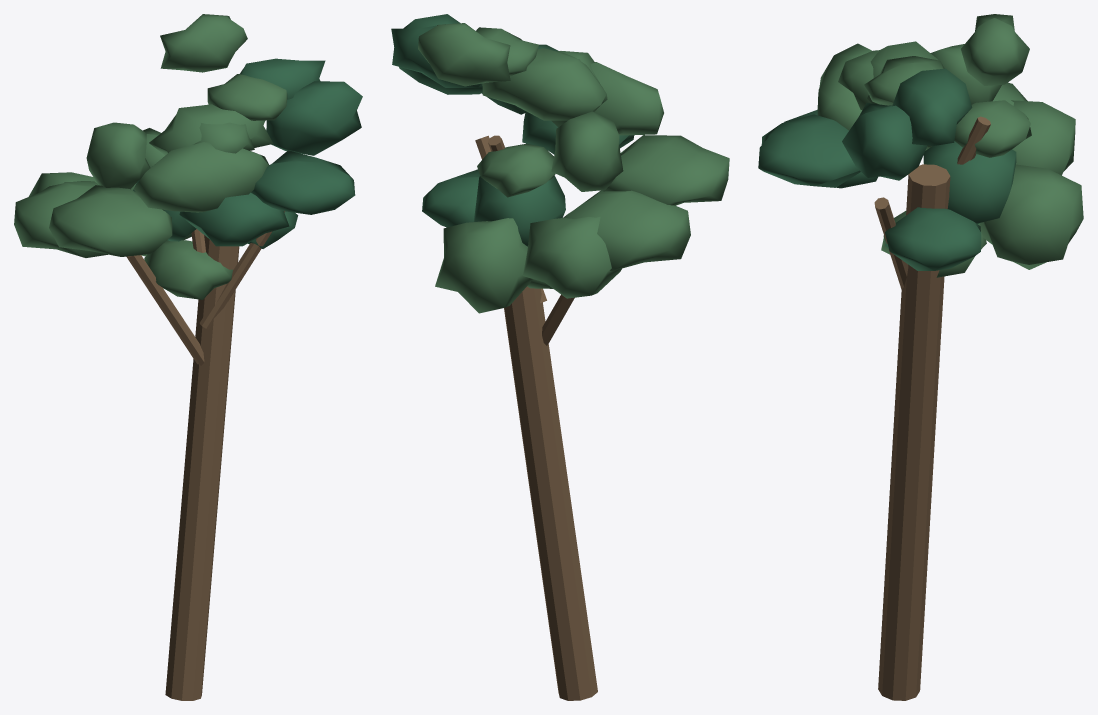
File: norway-pine_lod0.glb
The picture shows the model from 3 angles, left to right: view 1: azimuth 30°, elevation 25°; view 2: azimuth 150°, elevation 25°; view 3: azimuth 270°, elevation 25°; orthographic projection. The views are drawn at different scales.
Visible parts, largest first — view 1: RF_Pine_Trunk, RF_PineCrownA_04, RF_PineCrownA_02, RF_PineCrownB_02, RF_PineCrownB_04, RF_PineCrownC_02, RF_PineCrownB_01, RF_PineCrownC_03, RF_PineCrownA_00, RF_PineCrownA_01, RF_PineCrownA_05, RF_PineCrownC_04 (+6 smaller); view 2: RF_Pine_Trunk, RF_PineCrownA_03, RF_PineCrownA_04, RF_PineCrownA_01, RF_PineCrownA_06, RF_PineCrownA_05, RF_PineCrownC_03, RF_PineCrownC_02, RF_PineCrownA_02, RF_PineCrownB_03, RF_PineCrownC_00, RF_PineCrownB_00 (+5 smaller); view 3: RF_Pine_Trunk, RF_PineCrownA_03, RF_PineCrownB_04, RF_PineCrownB_00, RF_PineCrownB_03, RF_PineCrownB_02, RF_PineCrownB_05, RF_PineCrownC_02, RF_PineCrownA_06, RF_PineCrownC_00, RF_PineCrownA_02, RF_PineCrownC_04 (+6 smaller).
Part boxes in pixels (x1=…): RF_Pine_Trunk: x1=165, y1=235, x2=239, y2=700; RF_PineCrownA_04: x1=49, y1=185, x2=172, y2=256; RF_PineCrownA_02: x1=133, y1=142, x2=269, y2=212; RF_PineCrownB_02: x1=266, y1=81, x2=362, y2=155; RF_PineCrownB_04: x1=251, y1=150, x2=355, y2=214; RF_PineCrownC_02: x1=160, y1=14, x2=247, y2=72; RF_PineCrownB_01: x1=179, y1=192, x2=289, y2=246; RF_PineCrownC_03: x1=86, y1=122, x2=150, y2=189; RF_PineCrownA_00: x1=144, y1=240, x2=232, y2=299; RF_PineCrownA_01: x1=14, y1=181, x2=107, y2=257; RF_PineCrownA_05: x1=149, y1=104, x2=273, y2=155; RF_PineCrownC_04: x1=207, y1=74, x2=287, y2=120; RF_Pine_Trunk: x1=504, y1=286, x2=597, y2=700; RF_PineCrownA_03: x1=435, y1=218, x2=532, y2=313; RF_PineCrownA_04: x1=602, y1=135, x2=729, y2=205; RF_PineCrownA_01: x1=563, y1=190, x2=690, y2=270; RF_PineCrownA_06: x1=523, y1=216, x2=621, y2=298; RF_PineCrownA_05: x1=482, y1=48, x2=607, y2=120; RF_PineCrownC_03: x1=551, y1=111, x2=623, y2=191; RF_PineCrownC_02: x1=418, y1=23, x2=510, y2=86; RF_PineCrownA_02: x1=551, y1=62, x2=663, y2=135; RF_PineCrownB_03: x1=473, y1=175, x2=565, y2=246; RF_PineCrownC_00: x1=477, y1=143, x2=555, y2=197; RF_PineCrownB_00: x1=422, y1=169, x2=480, y2=227; RF_Pine_Trunk: x1=878, y1=164, x2=950, y2=700; RF_PineCrownA_03: x1=979, y1=164, x2=1083, y2=269; RF_PineCrownB_04: x1=758, y1=114, x2=860, y2=187; RF_PineCrownB_00: x1=885, y1=207, x2=981, y2=270; RF_PineCrownB_03: x1=923, y1=141, x2=1016, y2=224; RF_PineCrownB_02: x1=842, y1=103, x2=927, y2=180; RF_PineCrownB_05: x1=892, y1=68, x2=972, y2=145; RF_PineCrownC_02: x1=961, y1=14, x2=1029, y2=85; RF_PineCrownA_06: x1=1011, y1=100, x2=1075, y2=175; RF_PineCrownC_00: x1=954, y1=100, x2=1031, y2=157; RF_PineCrownA_02: x1=817, y1=43, x2=871, y2=130; RF_PineCrownC_04: x1=864, y1=56, x2=944, y2=105.
Bounding box in the file's own units: 8.27 × 16.74 × 6.97.
